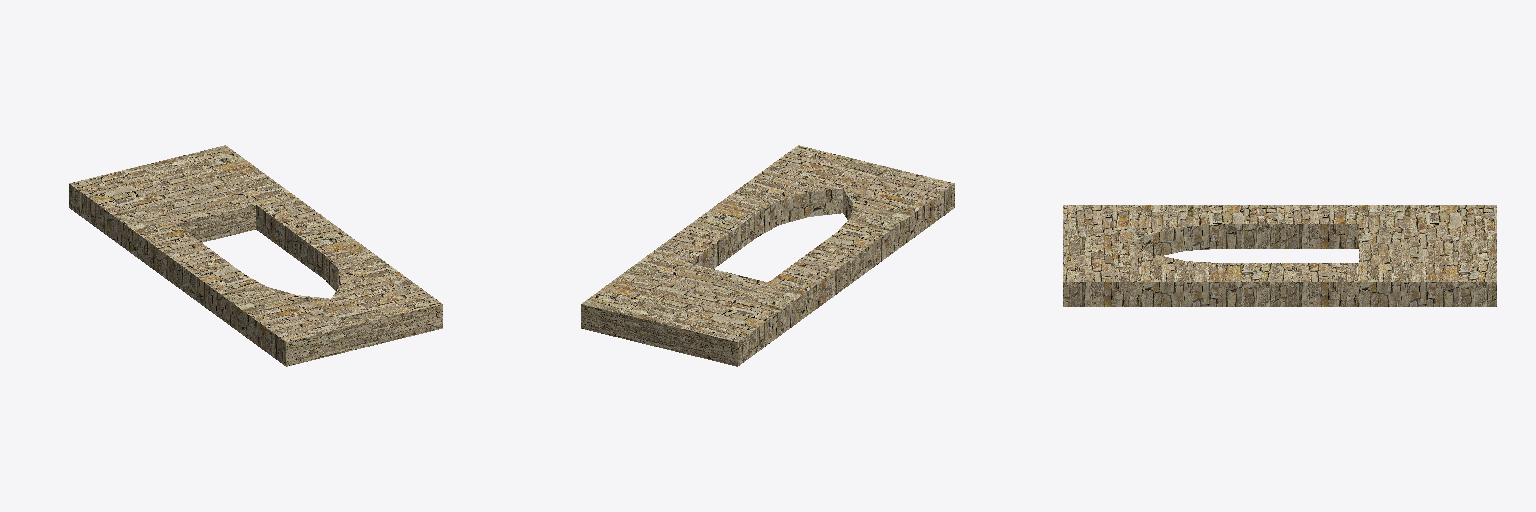
3 views of the same model, side by side, from view 1: azimuth 30°, elevation 25°; view 2: azimuth 150°, elevation 25°; view 3: azimuth 270°, elevation 25° (orthographic).
Visible parts, largest first — view 1: Box096_Mesh.005; view 2: Box096_Mesh.005; view 3: Box096_Mesh.005.
Boxes of the visible parts, <box> form: Box096_Mesh.005: <box>69,145,442,366</box>; Box096_Mesh.005: <box>581,145,954,366</box>; Box096_Mesh.005: <box>1063,205,1496,306</box>.
Size of the model in its own units: 1 by 0.15 by 2.4.
Materials: 1 (1 with a texture image).